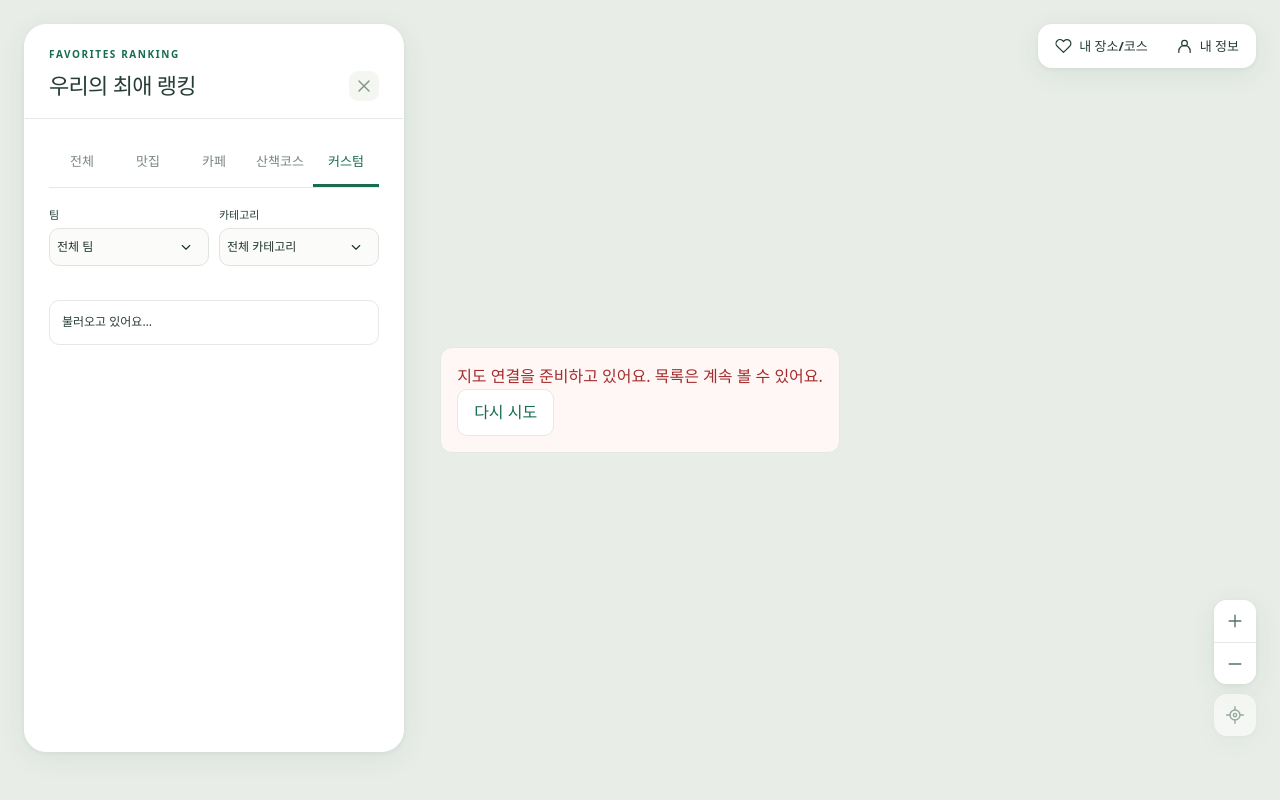
Test: preserves an explicit selection even while my team request is pending
The width and height of the screenshot is (1280, 800).
Select "B팀" in the dropdown named "팀 필터". click: (129, 247)
box: [49,228,209,266]
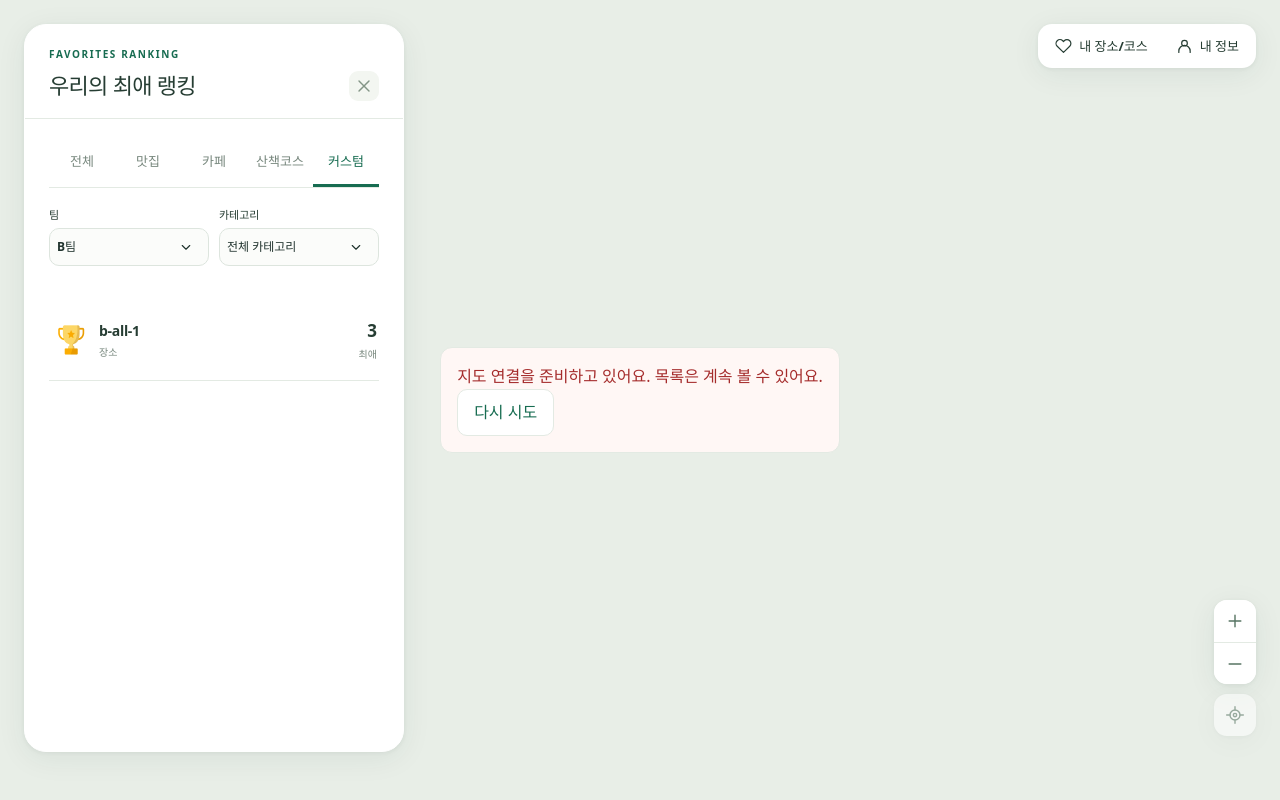
Now the link "b-all-1 장소 3 최애" is shown, box [49,300,379,380]
